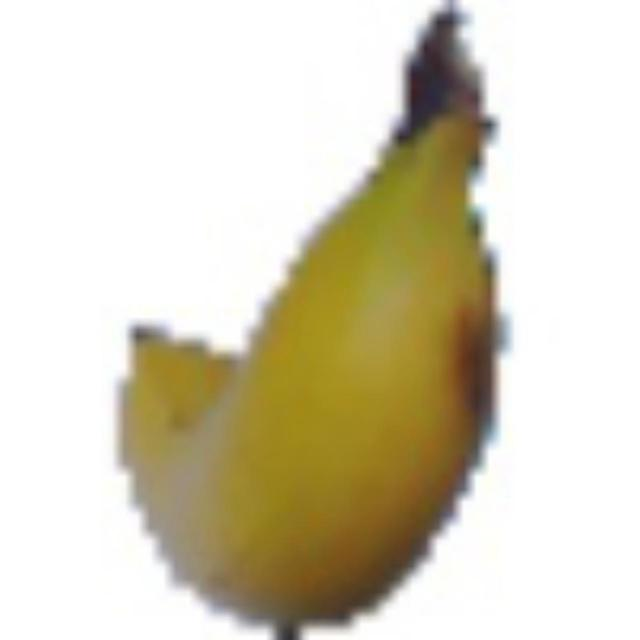banana: (83, 0, 505, 634)
